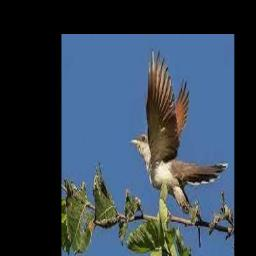Cuckoo: (130, 46, 228, 211)
